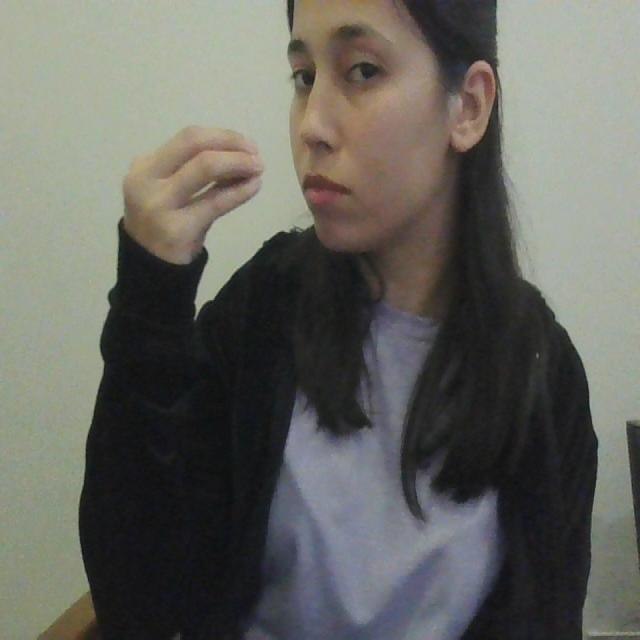Yemek: (126, 127, 364, 225)
